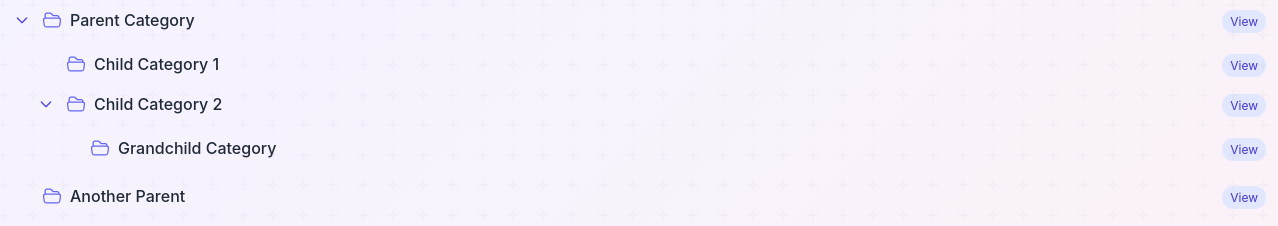
Test: CategoryTree Component › toggles category expansion when toggle button is clicked
This screenshot has width=1278, height=226.
Expected: the text "Grandchild Category" is shown, [118,136,276,160]
Click the button without text next to "Child Category 2".
click(46, 104)  # box [34,92,58,116]
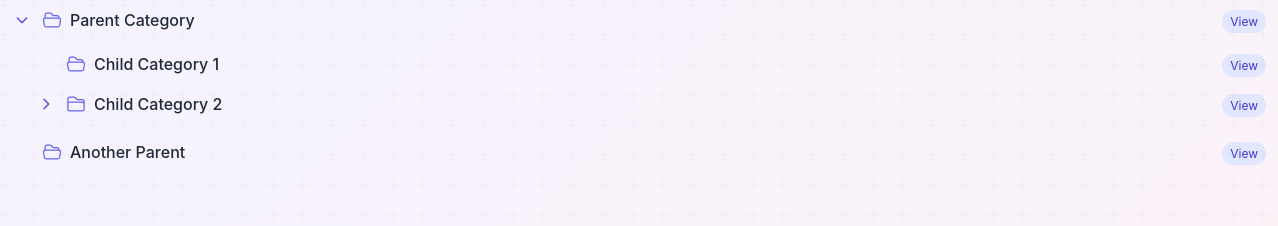
Expected: the text "Grandchild Category" is gone
